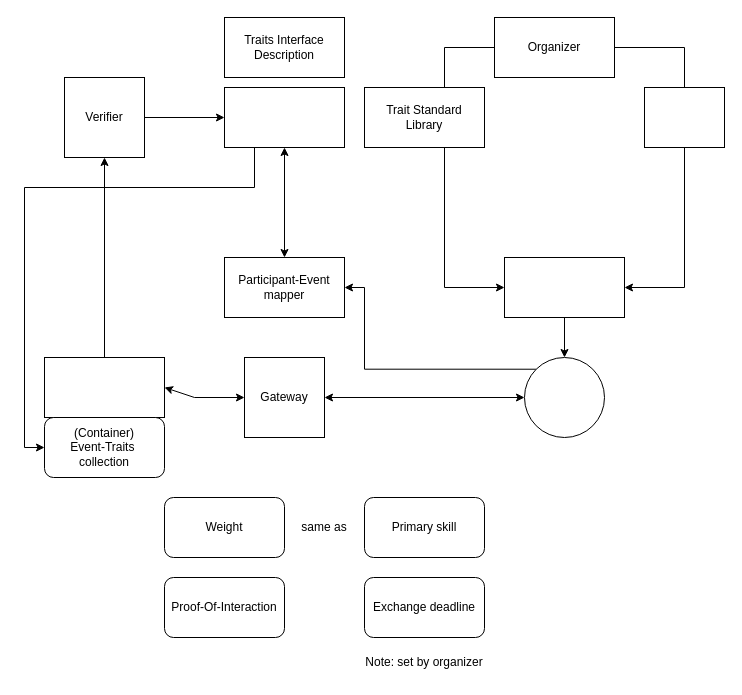
Some shapes in this 742 by 695 pixel diagram are drawn without their labels. The centre of each missing label's shape, as x and y in pixels:
"Criteria filter" goes at (x=564, y=397).
"ENS records" goes at (x=684, y=117).
"Event registry" goes at (x=564, y=287).
"Participant" goes at (x=104, y=387).
"Trait / Review controller" goes at (x=284, y=117).
